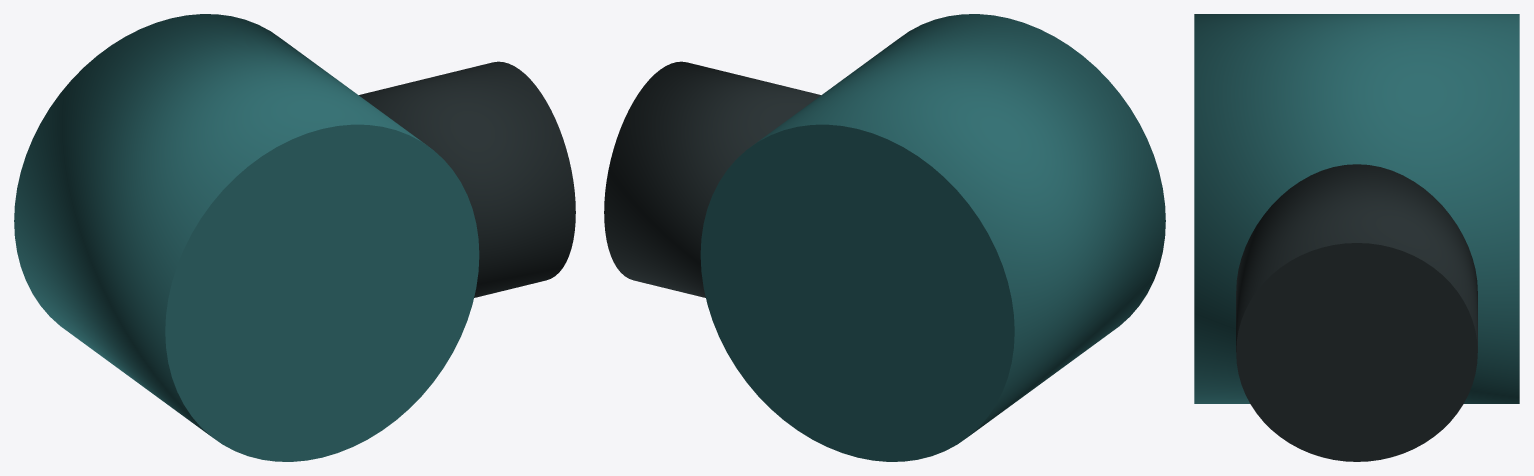
Rendered from support_height.glb.
3 renders of one model, left to right at view 1: azimuth 30°, elevation 25°; view 2: azimuth 150°, elevation 25°; view 3: azimuth 270°, elevation 25°, orthographic. The views are drawn at different scales.
Visible parts, largest first — view 1: height_collar, height_lock; view 2: height_collar, height_lock; view 3: height_collar, height_lock.
Boxes of the visible parts, x1,y1,x2,y2 form: height_collar: (14, 14, 479, 461); height_lock: (359, 61, 575, 297); height_collar: (700, 14, 1165, 461); height_lock: (604, 61, 820, 297); height_collar: (1194, 14, 1519, 403); height_lock: (1236, 164, 1477, 461).
Bounding box in the file's own units: 0.0575 × 0.042 × 0.035.
